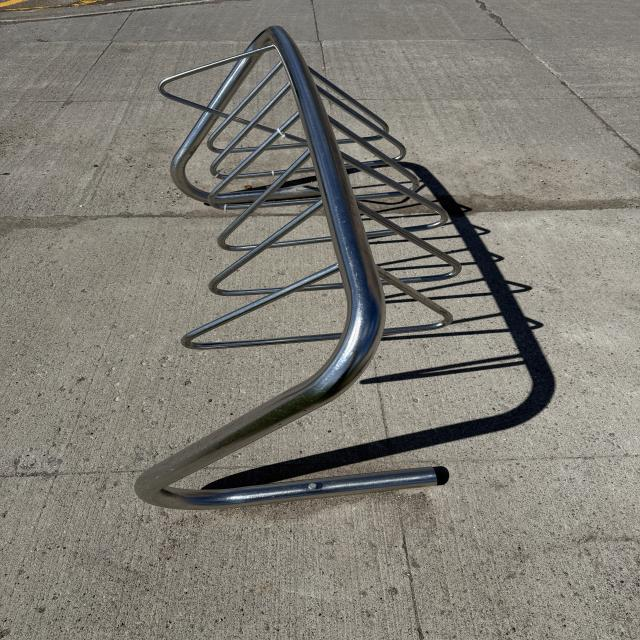Bicycle Rack: (122, 24, 450, 511)
